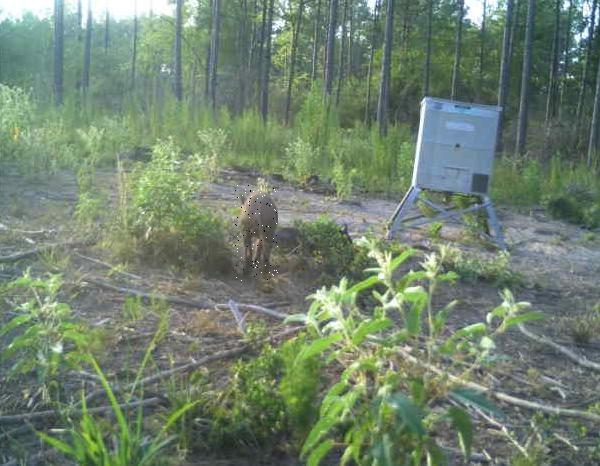Hog: (234, 185, 277, 282)
